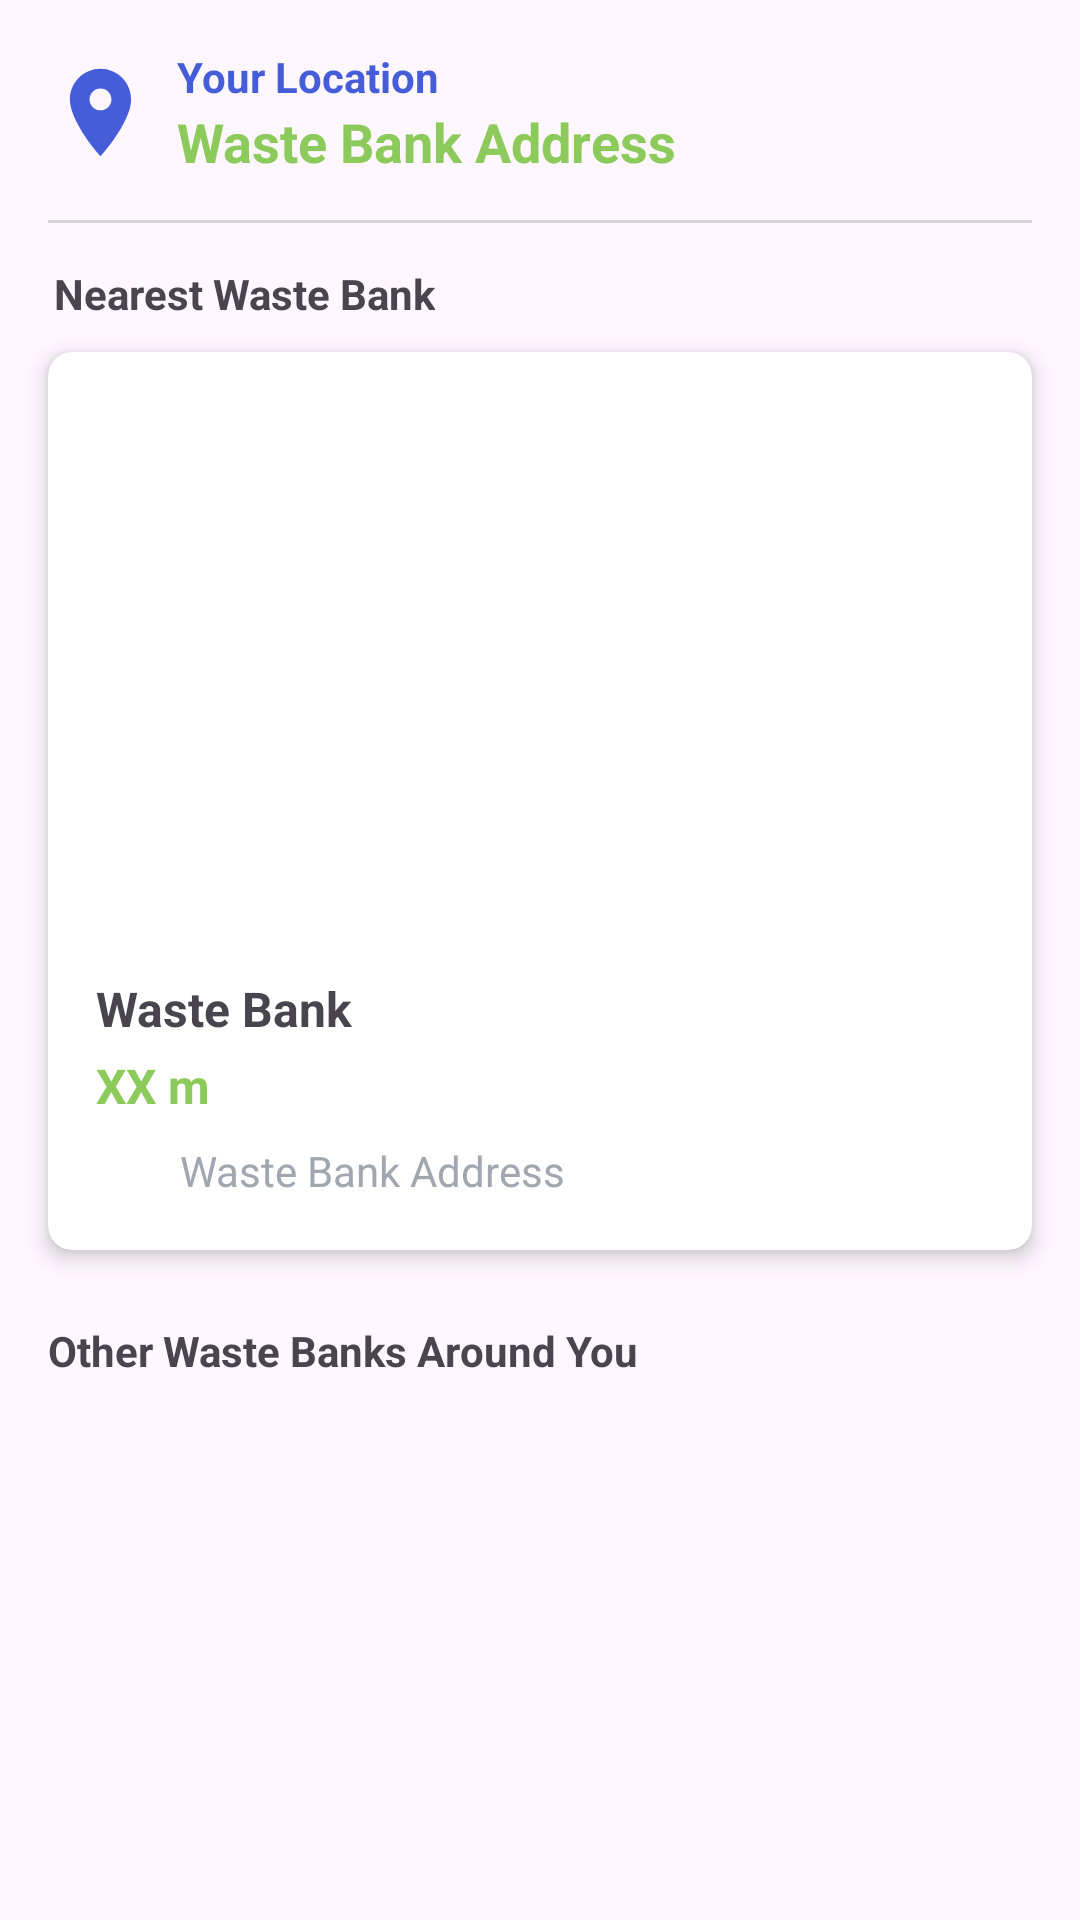

Locate icon controls on the screen. Image size 1080*1920, boxes as (x1, y1, x2, y2).
Location Now: (70, 68, 131, 156)
